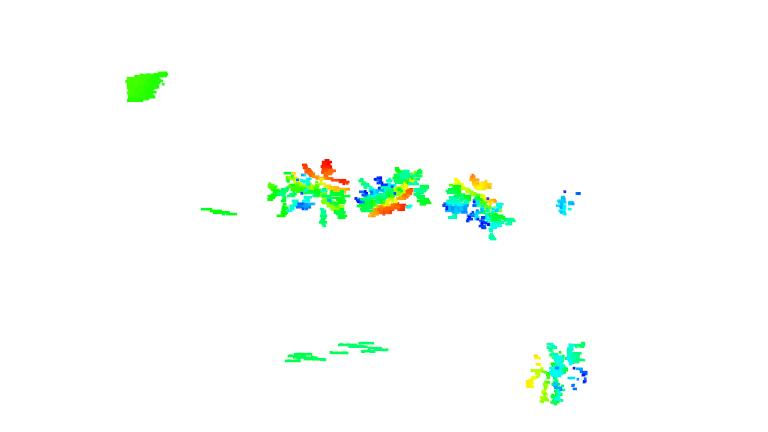chickpea: (269, 159, 360, 220), (442, 172, 515, 243), (524, 340, 588, 406), (358, 162, 430, 218)
